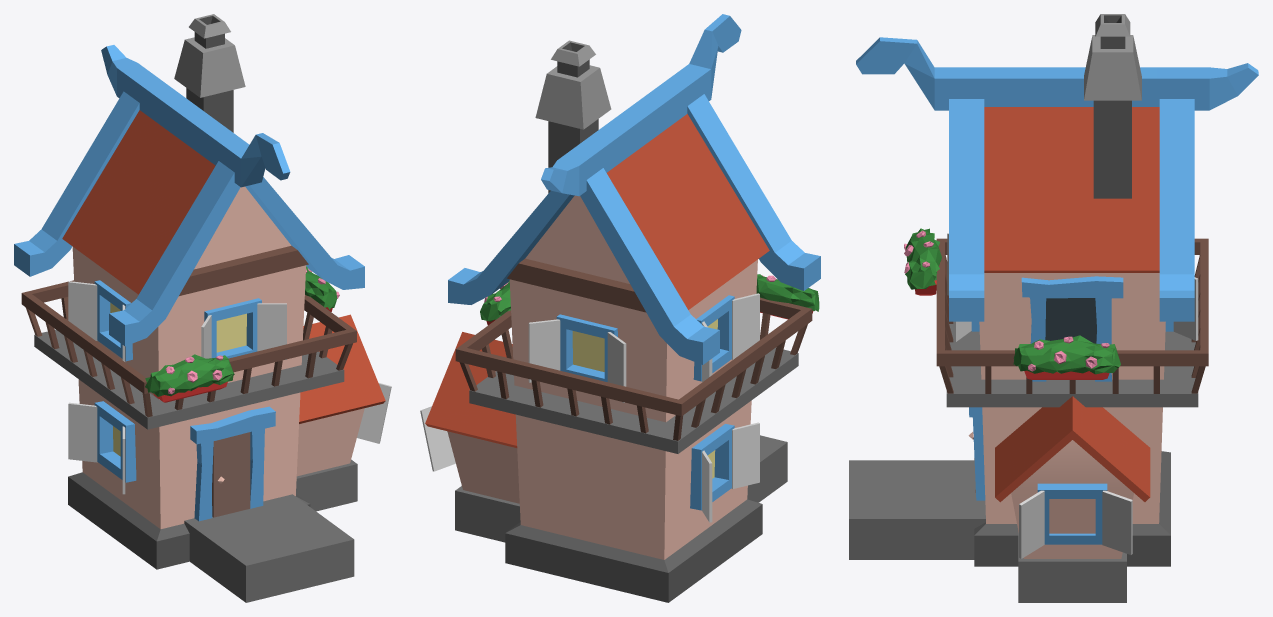
File: building_020.fbx
3 views of the same model, side by side, from view 1: azimuth 30°, elevation 25°; view 2: azimuth 150°, elevation 25°; view 3: azimuth 270°, elevation 25° (orthographic). The views are drawn at different scales.
Visible parts, largest first — view 1: building.062; view 2: building.062; view 3: building.062.
Part boxes in pixels (x1,y1,x2,y2): building.062: (14,14,391,602); building.062: (420,14,820,602); building.062: (849,14,1258,602).
Bounding box in the file's own units: 1268 × 1923 × 1355.
Materials: 1 (1 with a texture image).
